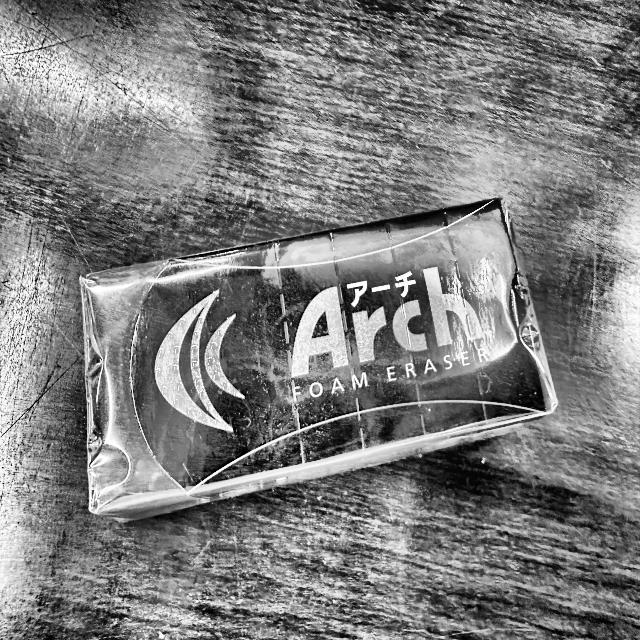eraser: (76, 188, 565, 538)
